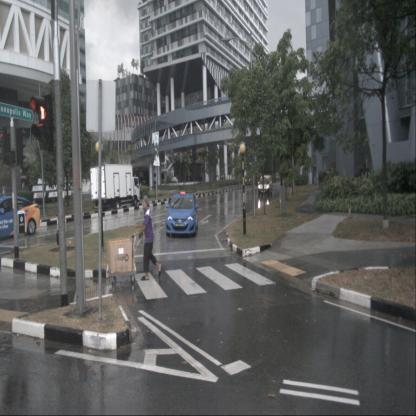human-pedestrian-adult: (134, 195, 163, 280)
vehicle-car: (0, 194, 41, 238), (165, 191, 198, 237), (257, 174, 273, 196), (245, 176, 256, 186)
vehicle-truck: (89, 164, 140, 212)
